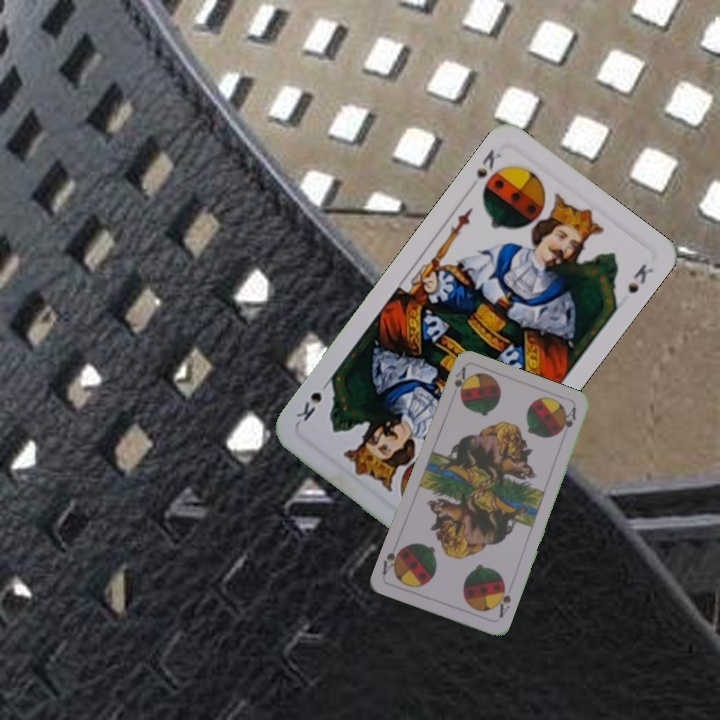SA: (491, 580, 513, 621), (450, 363, 468, 397)
SK: (471, 144, 507, 198)
